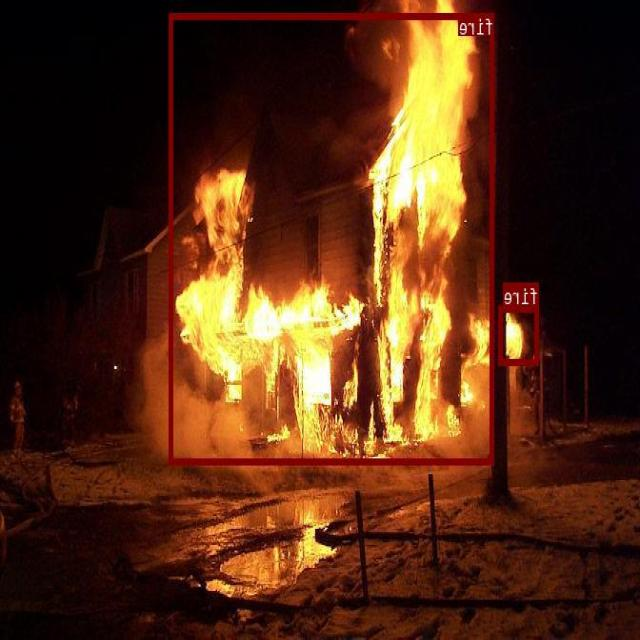fire: (170, 11, 494, 464), (499, 306, 539, 364)
